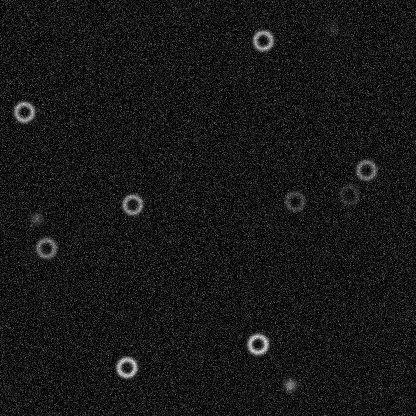Ring: (337, 182, 361, 206), (34, 235, 58, 259), (12, 99, 36, 123), (120, 192, 144, 216), (282, 189, 306, 213), (245, 332, 269, 356), (114, 355, 138, 379), (354, 157, 378, 181), (250, 28, 274, 52)
Spot: (281, 376, 297, 392), (324, 20, 340, 36), (28, 210, 44, 226)
